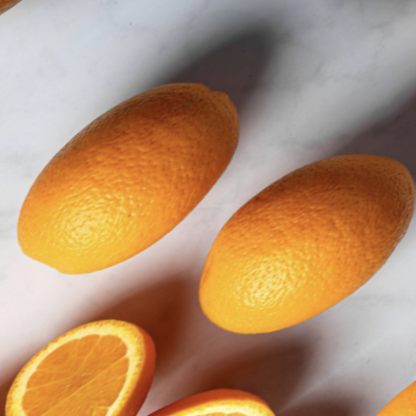orange: (0, 39, 286, 322), (154, 108, 416, 385)
